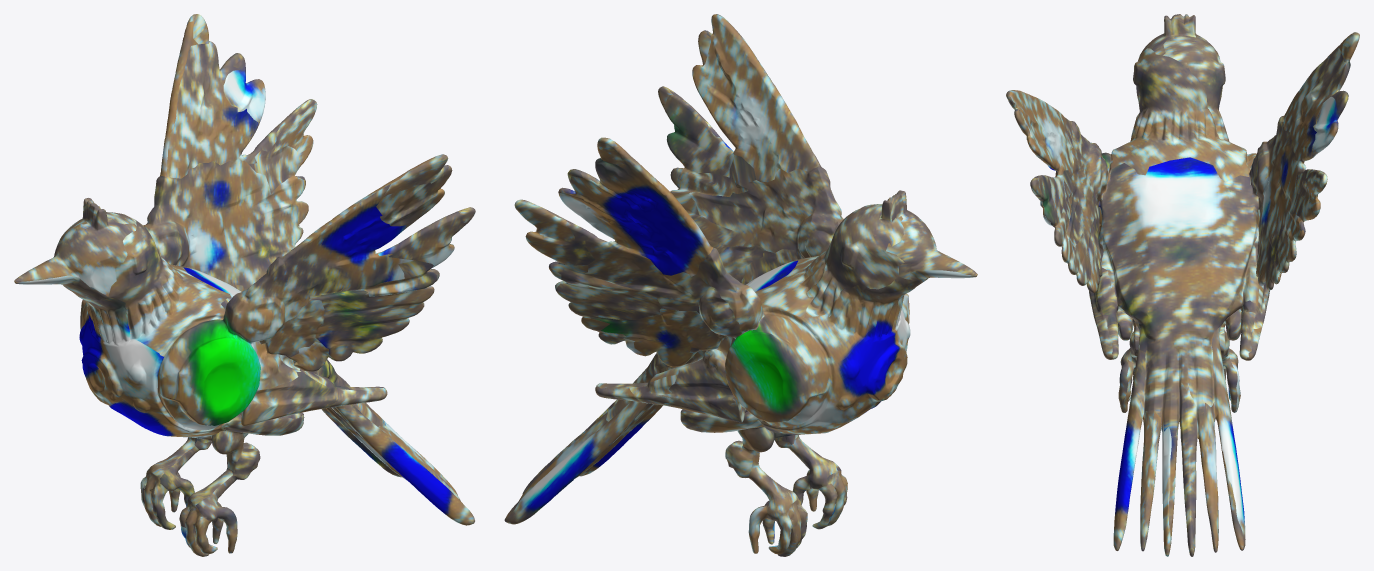
The model's file is paint-it.glb.
The picture shows the model from 3 angles, left to right: view 1: azimuth 30°, elevation 25°; view 2: azimuth 150°, elevation 25°; view 3: azimuth 270°, elevation 25°; orthographic projection. The views are drawn at different scales.
Visible parts, largest first — view 1: mesh; view 2: mesh; view 3: mesh.
Part boxes in pixels (<box>): mesh: <box>14,14,475,556</box>; mesh: <box>504,14,977,556</box>; mesh: <box>1006,14,1359,556</box>.
Bounding box in the file's own units: 2 × 2 × 1.44.
Materials: 1 (1 with a texture image).
